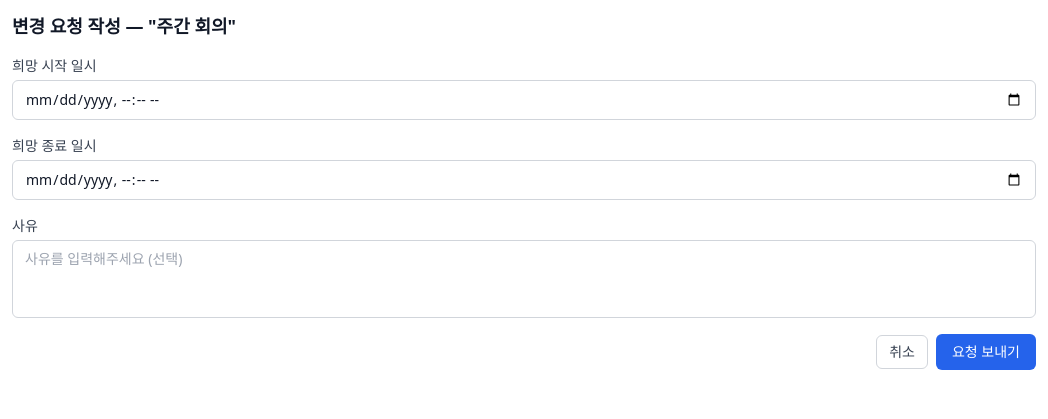
Test: ChangeRequestForm - 제출 › submitChangeRequest가 400으로 실패하면 서버 에러 메시지를 표시한다
The image size is (1048, 419).
Type "2026-04-15T09:00" into the field labelled "희망 시작 일시" at [524, 100], box [12,80,1036,120]
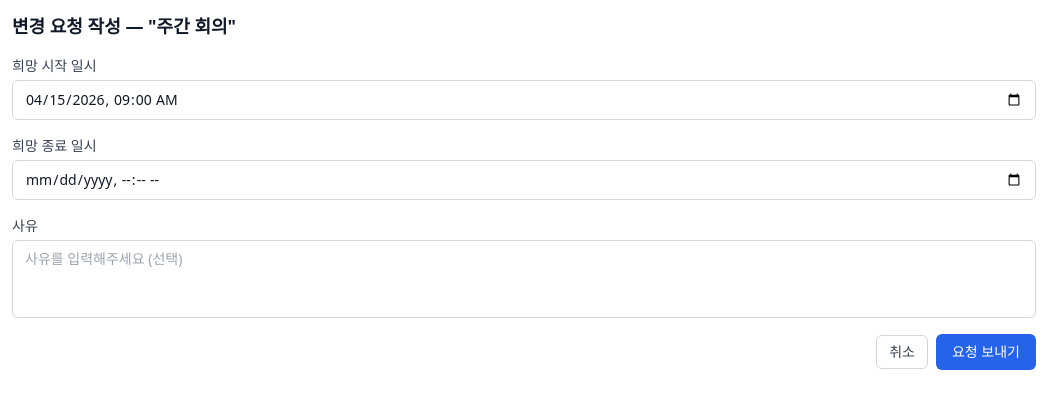
Type "2026-04-15T10:00" into the field labelled "희망 종료 일시" at [524, 180], box [12,160,1036,200]
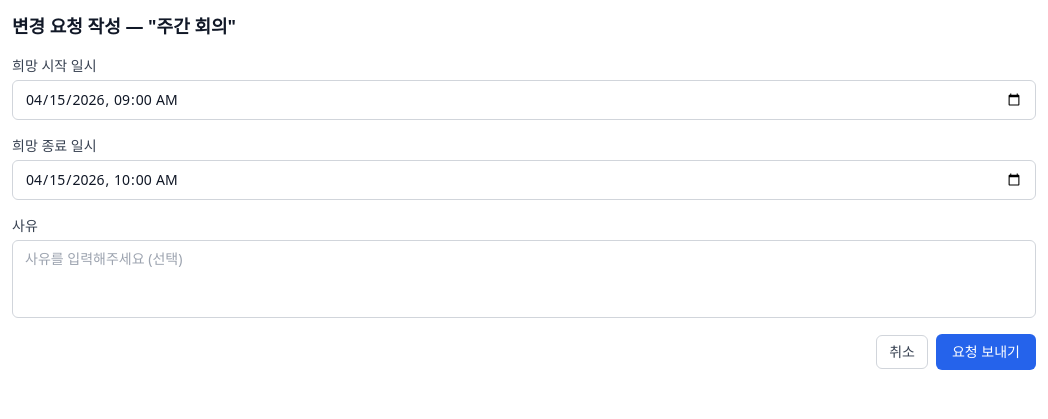
Submit the form
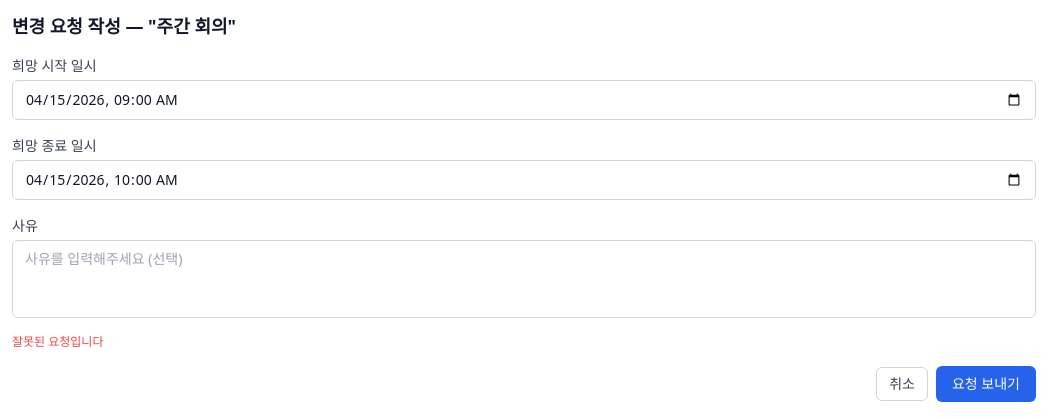
Result: the text "잘못된 요청입니다" is shown at [12,333,104,350]
